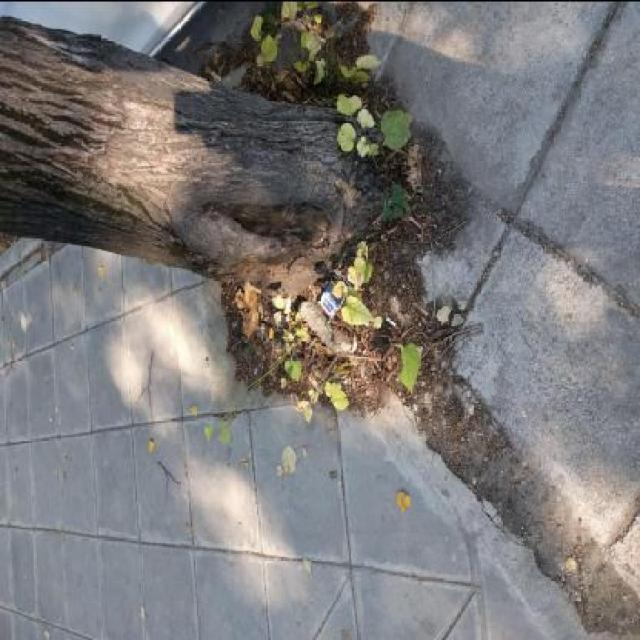cardboard: (318, 268, 352, 318)
